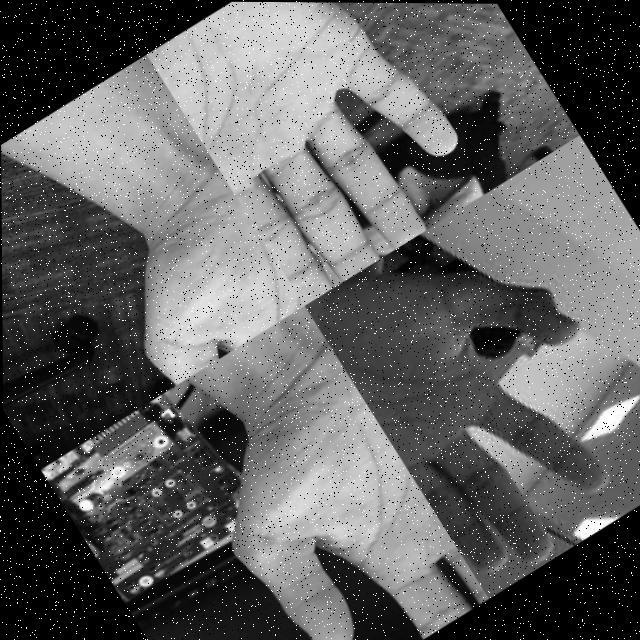no-gloves: (303, 186, 640, 596), (149, 323, 487, 640), (144, 1, 492, 305), (52, 132, 304, 393)
